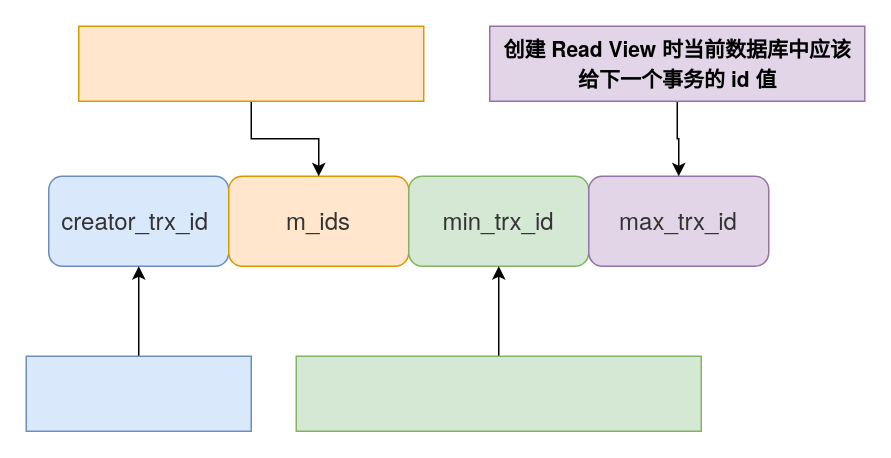
Some shapes in this 891 by 458 pixel diagram are drawn without their labels. Each missing label, with the centre of its shape:
创建 Read View 时当前数据库中 活跃且未提交的事务中最小事务的事务 id: point (498, 393)
创建视图时当前数据库中 活跃且未提交的事务的事务 id 列表: point (250, 63)
创建该 Read View 的 事务的事务 id: point (138, 393)
